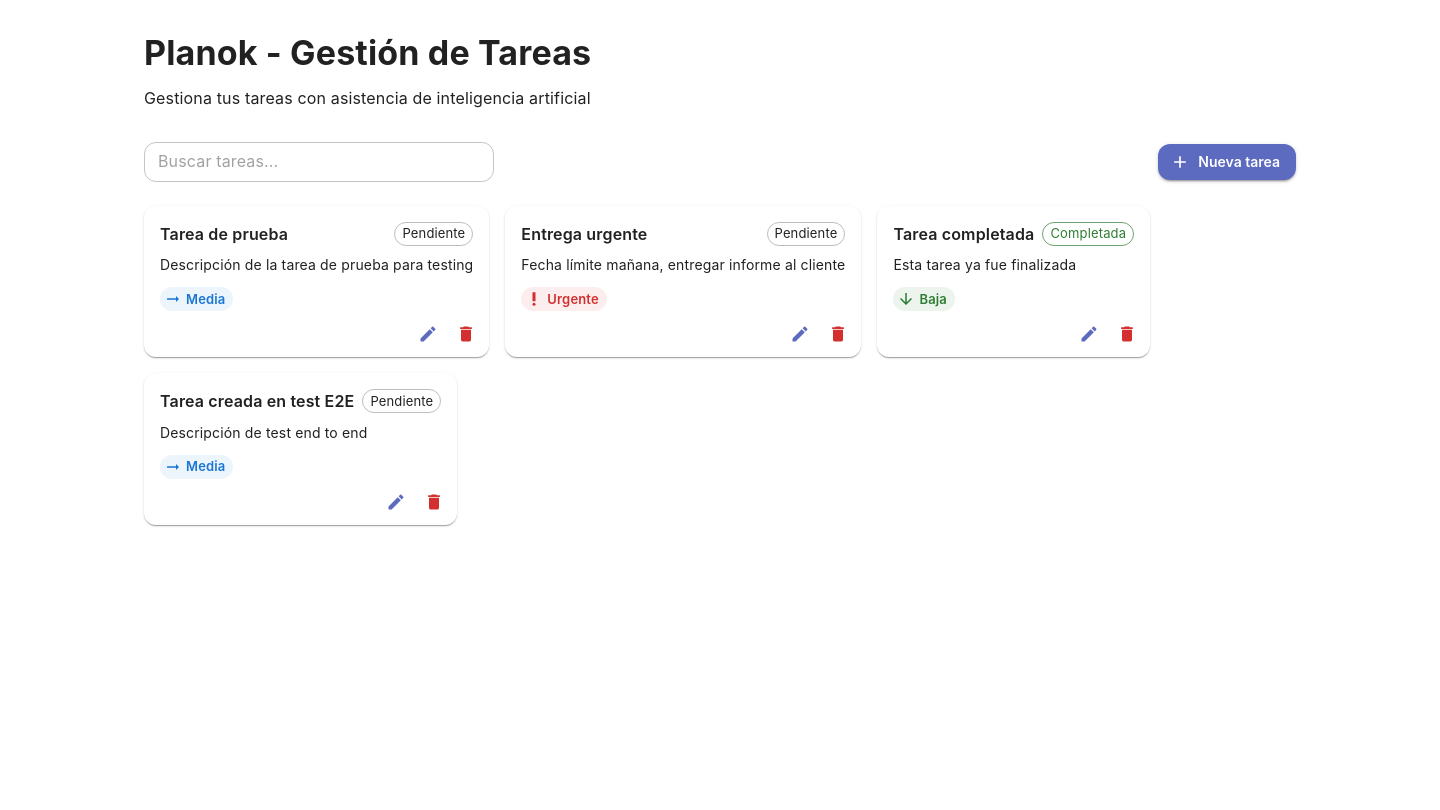
Test: TasksPage - integración completa › debe abrir dialog de confirmación al eliminar una tarea
Click the 1st button named "Eliminar": (466, 334) [451,320,481,350]
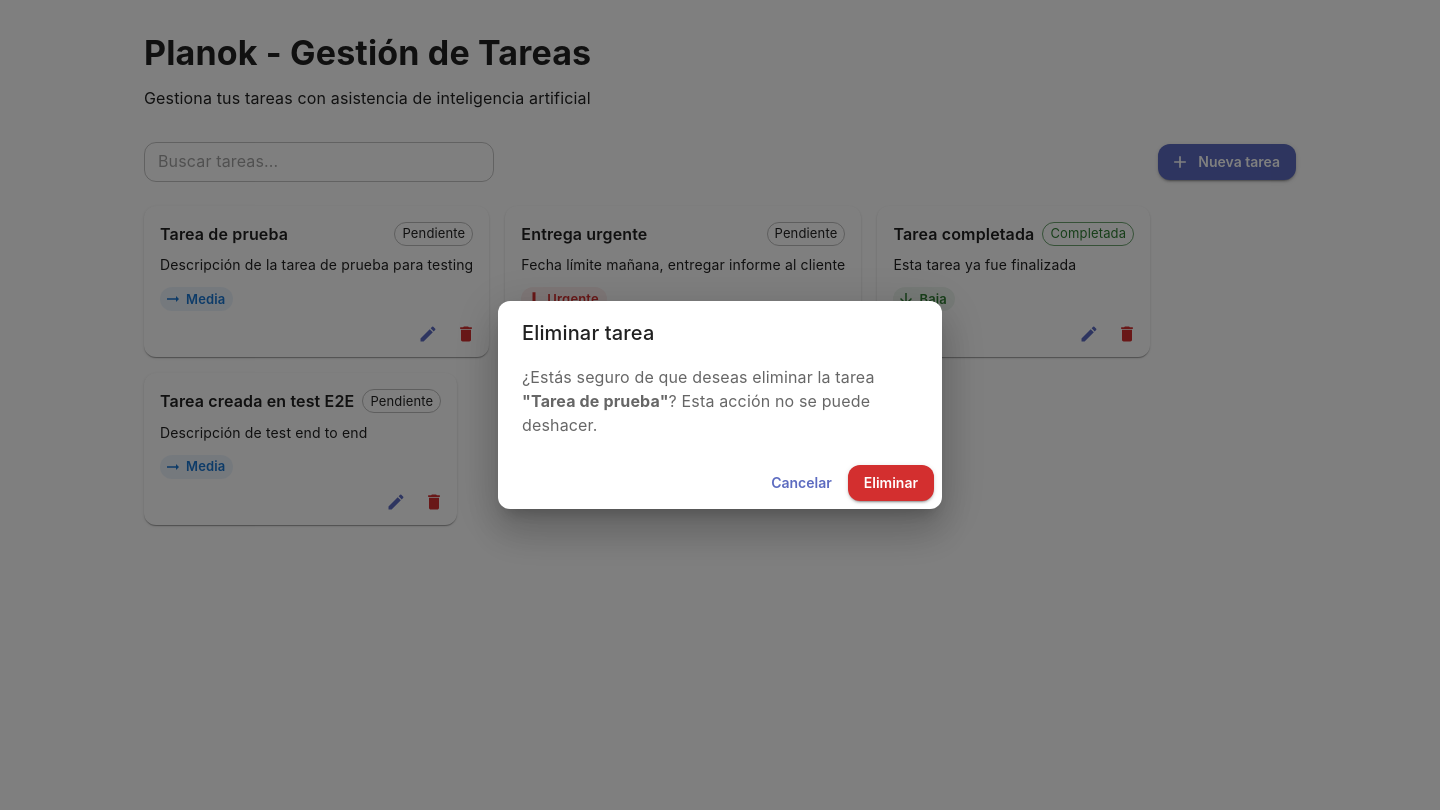
Expected: the heading "Eliminar tarea" is shown, [522,321,654,345]
Expected: the text "Esta acción no se puede deshacer" is shown, [522,391,870,435]
